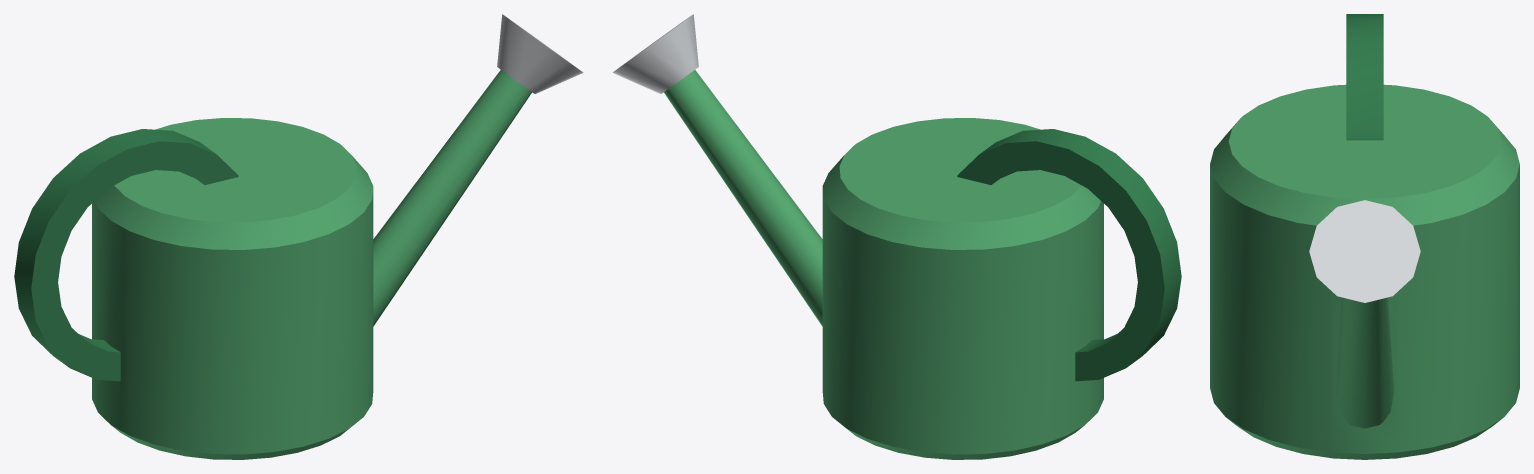
The model's file is watering_can.glb.
3 renders of one model, left to right at view 1: azimuth 30°, elevation 25°; view 2: azimuth 150°, elevation 25°; view 3: azimuth 270°, elevation 25°, orthographic. The views are drawn at different scales.
Parts seen in each view (by area): view 1: watering_can; view 2: watering_can; view 3: watering_can.
Part boxes in pixels (box(x1,y1,x2,y2)): watering_can: box(14, 14, 583, 459); watering_can: box(612, 14, 1181, 459); watering_can: box(1210, 14, 1519, 459).
Bounding box in the file's own units: 0.09 × 0.0494 × 0.0398.
